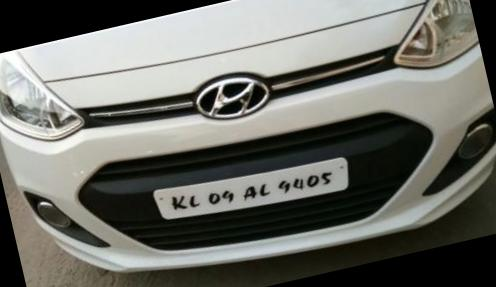plate: (141, 124, 390, 243)
